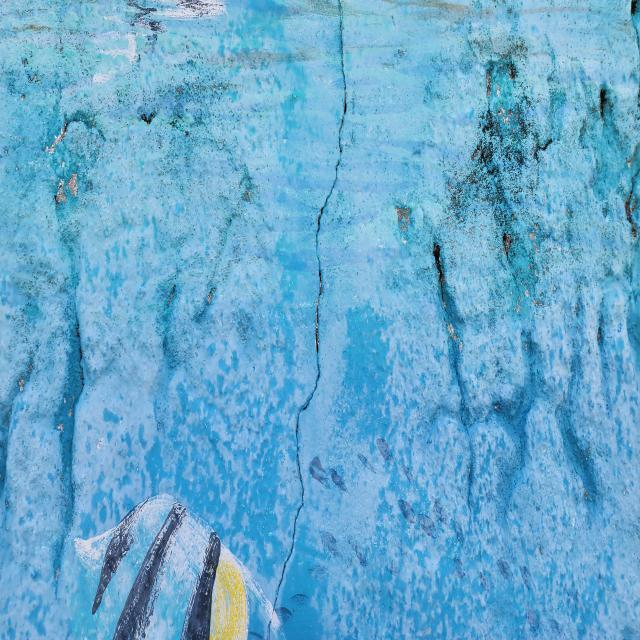SurfaceCrack: (221, 0, 389, 640), (394, 1, 562, 483)
